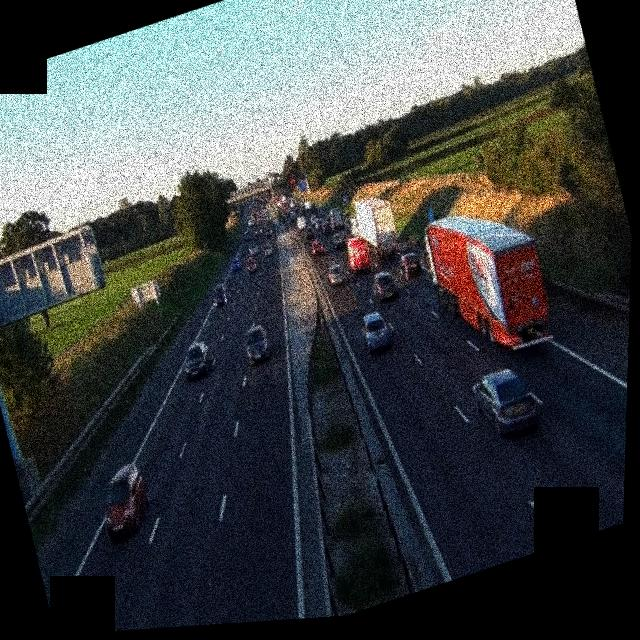car: (468, 360, 544, 443), (92, 458, 158, 542), (357, 307, 395, 353), (179, 337, 216, 380), (240, 320, 274, 365), (367, 266, 400, 306), (395, 247, 424, 281), (325, 260, 348, 289), (212, 282, 231, 306), (331, 229, 348, 250), (309, 238, 326, 258), (244, 254, 259, 273), (229, 254, 243, 272), (261, 241, 274, 258), (319, 219, 331, 236), (246, 243, 259, 258)
truck: (415, 189, 562, 371), (345, 191, 404, 266), (343, 232, 375, 276), (295, 212, 310, 232)
